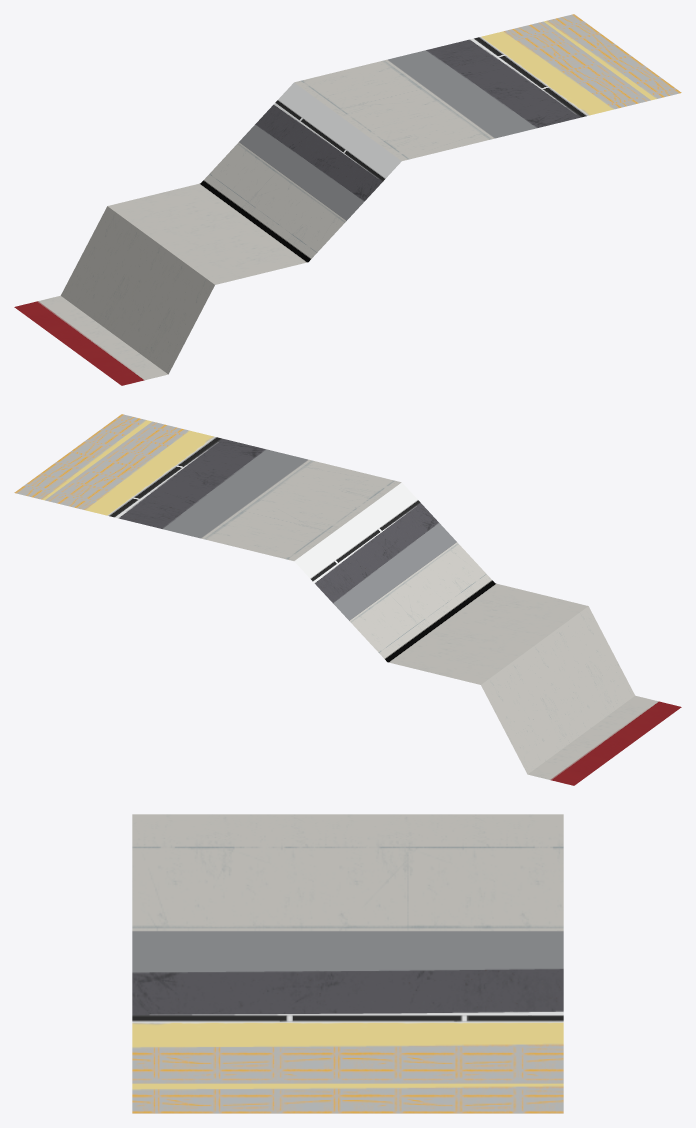
File: G_Env_Arch_Ceiling_01_Wires.fbx
3 views of the same model, one above another, from view 1: azimuth 30°, elevation 25°; view 2: azimuth 150°, elevation 25°; view 3: azimuth 270°, elevation 25° (orthographic). The views are drawn at different scales.
Visible parts, largest first — view 1: G_Env_Arch_Ceiling_01_Wires; view 2: G_Env_Arch_Ceiling_01_Wires; view 3: G_Env_Arch_Ceiling_01_Wires.
Part boxes in pixels (left/top/right/bottom): G_Env_Arch_Ceiling_01_Wires: left=14, top=14, right=681, bottom=385; G_Env_Arch_Ceiling_01_Wires: left=14, top=414, right=681, bottom=785; G_Env_Arch_Ceiling_01_Wires: left=132, top=814, right=563, bottom=1113.
Size of the model in its own units: 1500 by 400 by 500.
